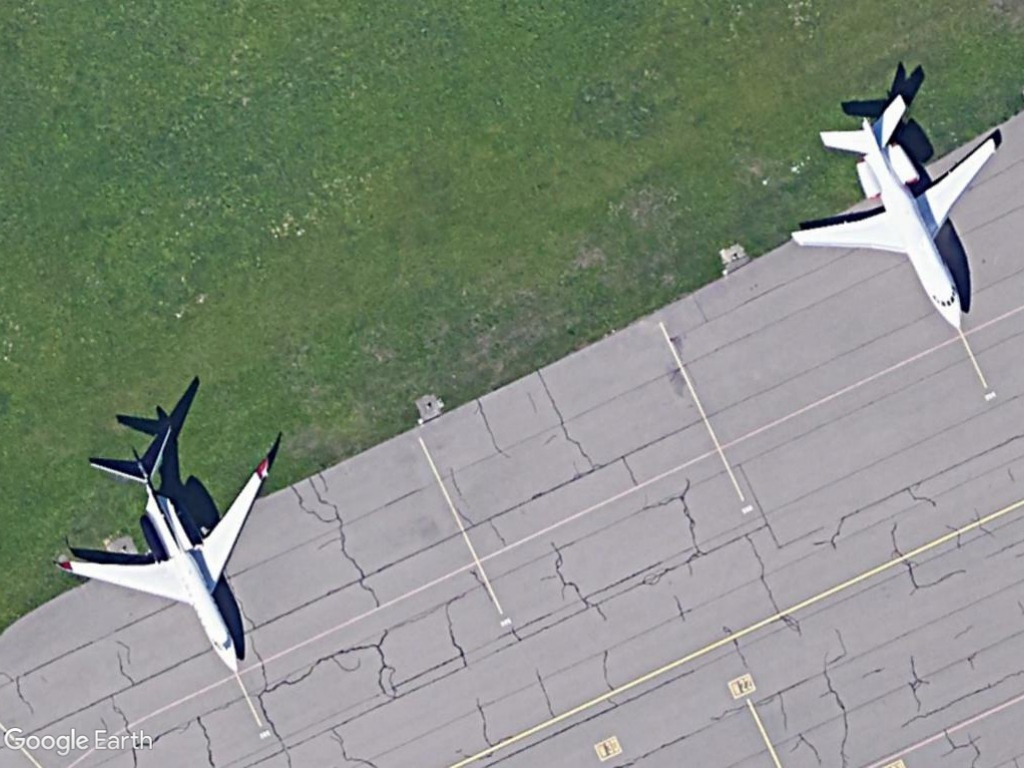chartered: (51, 420, 276, 682), (785, 91, 997, 331)
